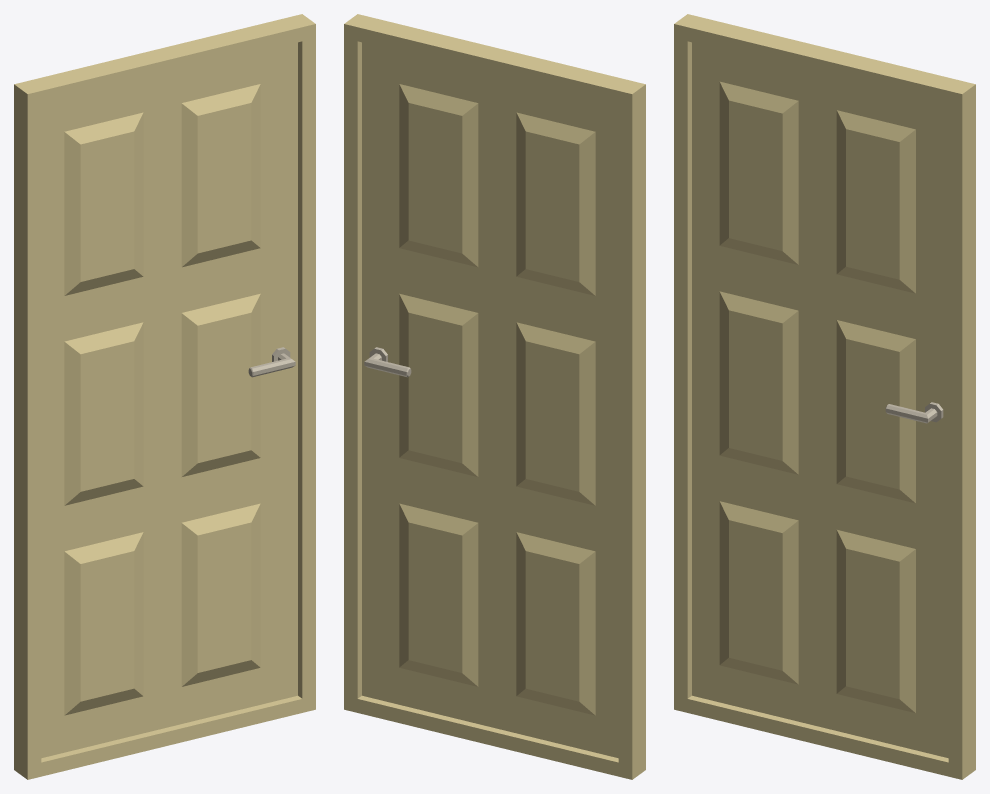
File: Mesh_Door_A09.fbx
3 renders of one model, left to right at view 1: azimuth 30°, elevation 25°; view 2: azimuth 150°, elevation 25°; view 3: azimuth 330°, elevation 25°, orthographic.
Parts seen in each view (by area): view 1: Mesh_Door_A09; view 2: Mesh_Door_A09; view 3: Mesh_Door_A09.
Boxes of the visible parts, x1,y1,x2,y2 form: Mesh_Door_A09: [14, 14, 315, 779]; Mesh_Door_A09: [344, 14, 645, 779]; Mesh_Door_A09: [674, 14, 975, 779].
Bounding box in the file's own units: 0.9 × 2.05 × 0.1482.
